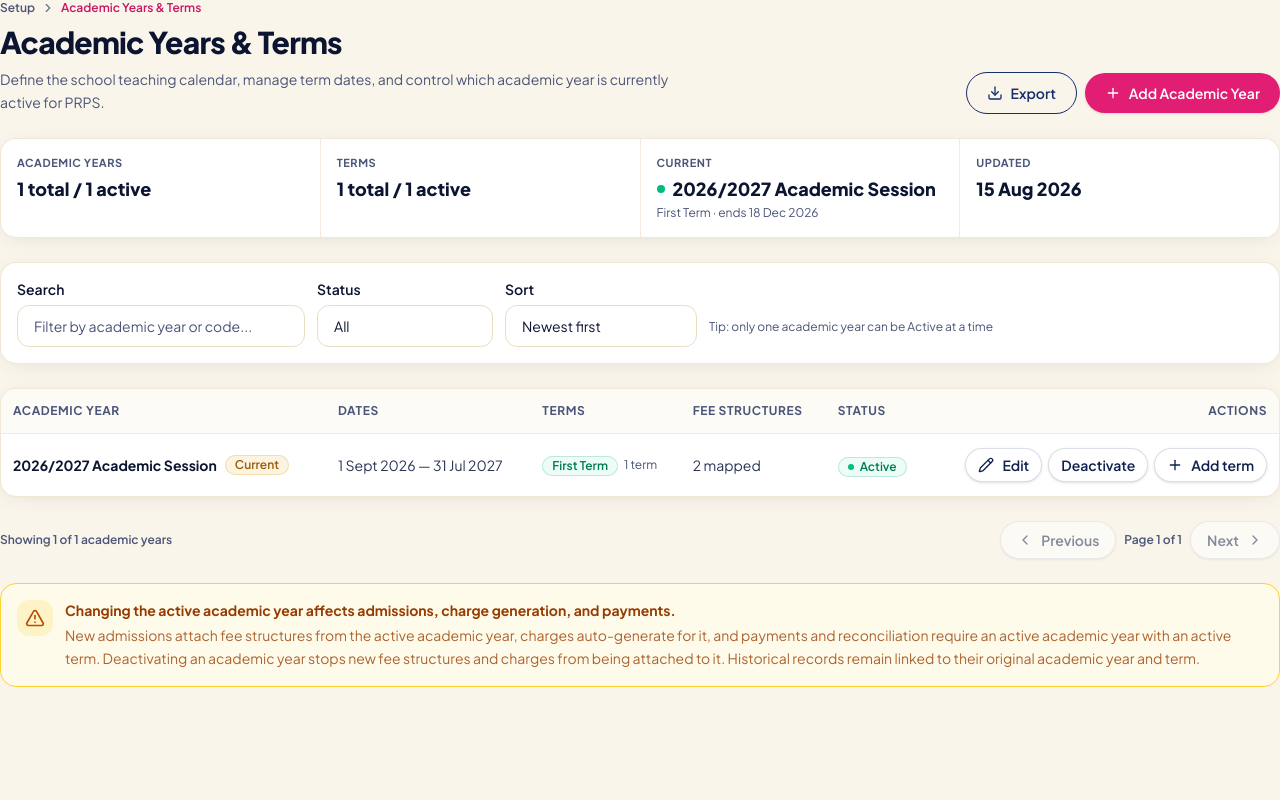
Test: SessionsPage › blocks a term that overlaps an existing term in the same academic year
Click the button "Add term": (1211, 465) [1154, 448, 1267, 482]
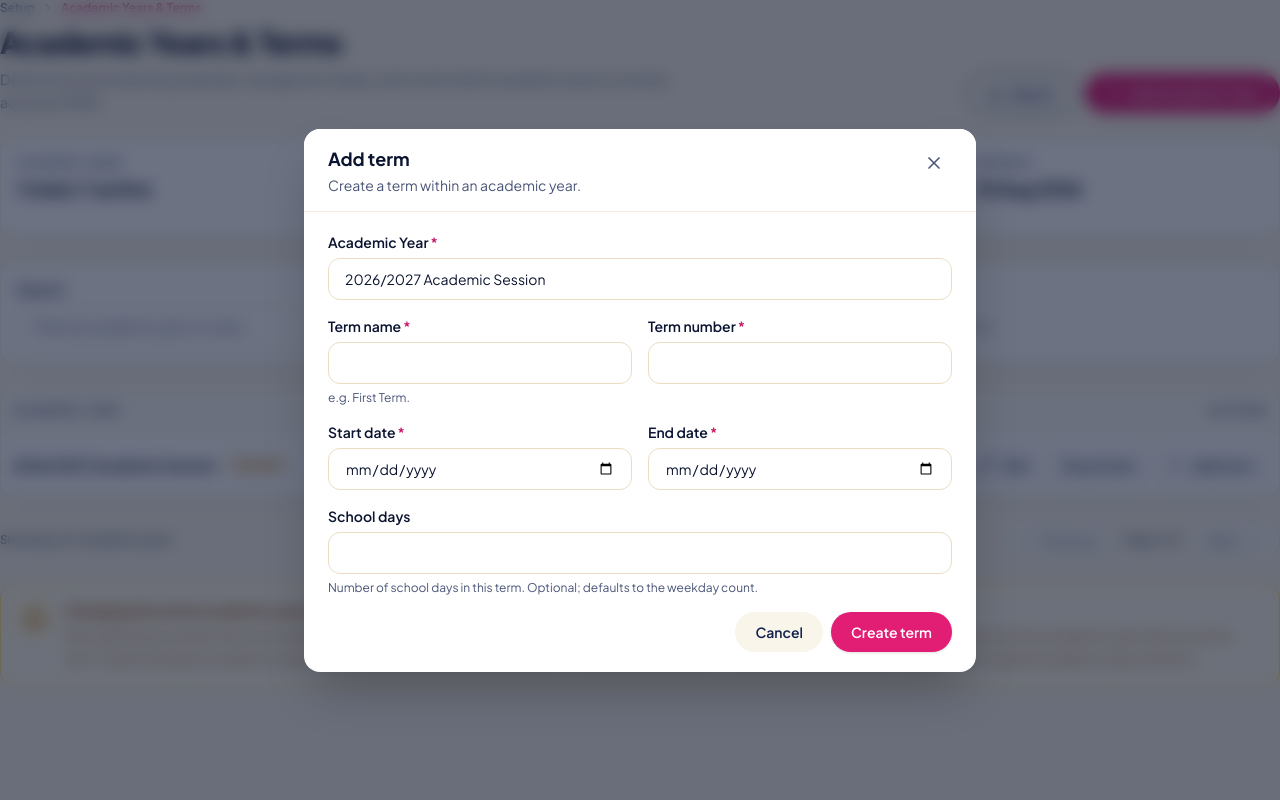
In the field labelled "Term name*": (480, 362) [328, 342, 632, 384], type "Second Term"
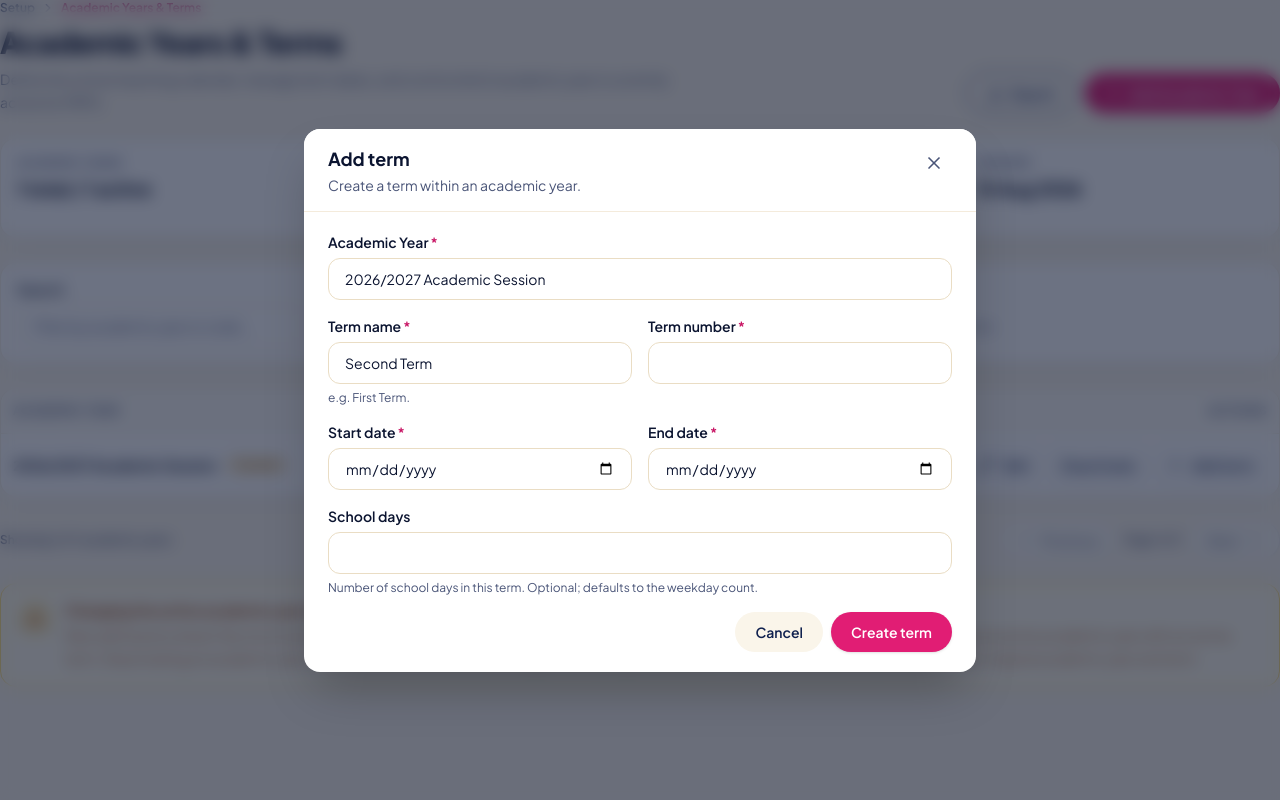
In the field labelled "Term number*": (800, 362) [648, 342, 952, 384], type "2"
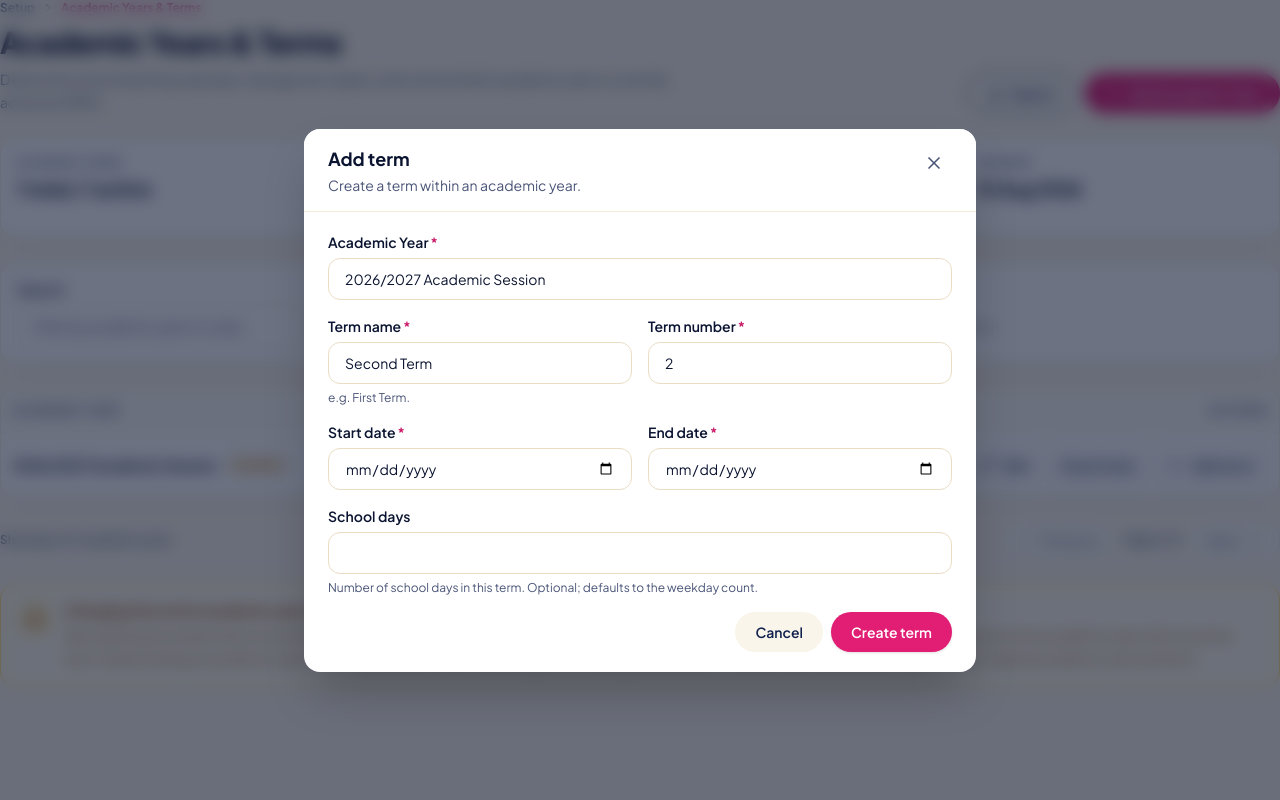
In the date field labelled "Start date*": (480, 468) [328, 448, 632, 490], type "2026-11-01"
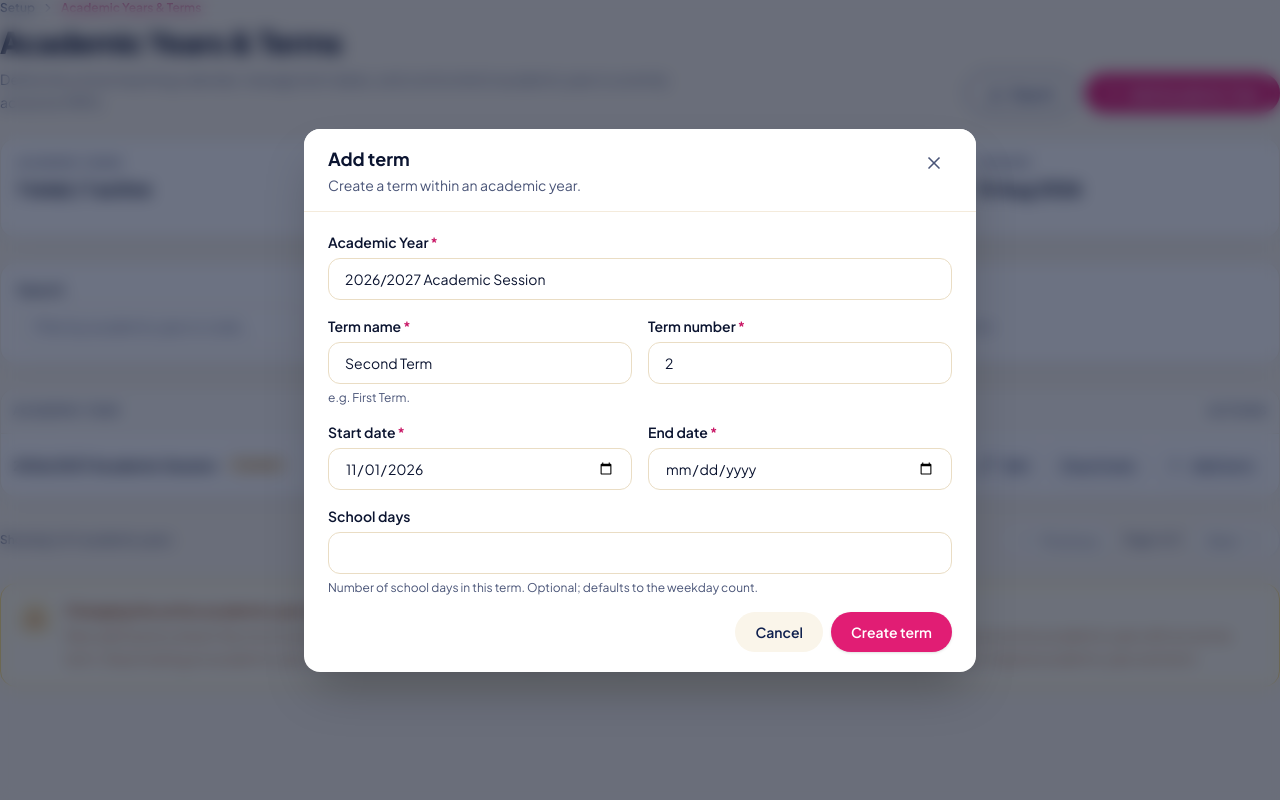
In the date field labelled "End date*": (800, 468) [648, 448, 952, 490], type "2026-12-31"
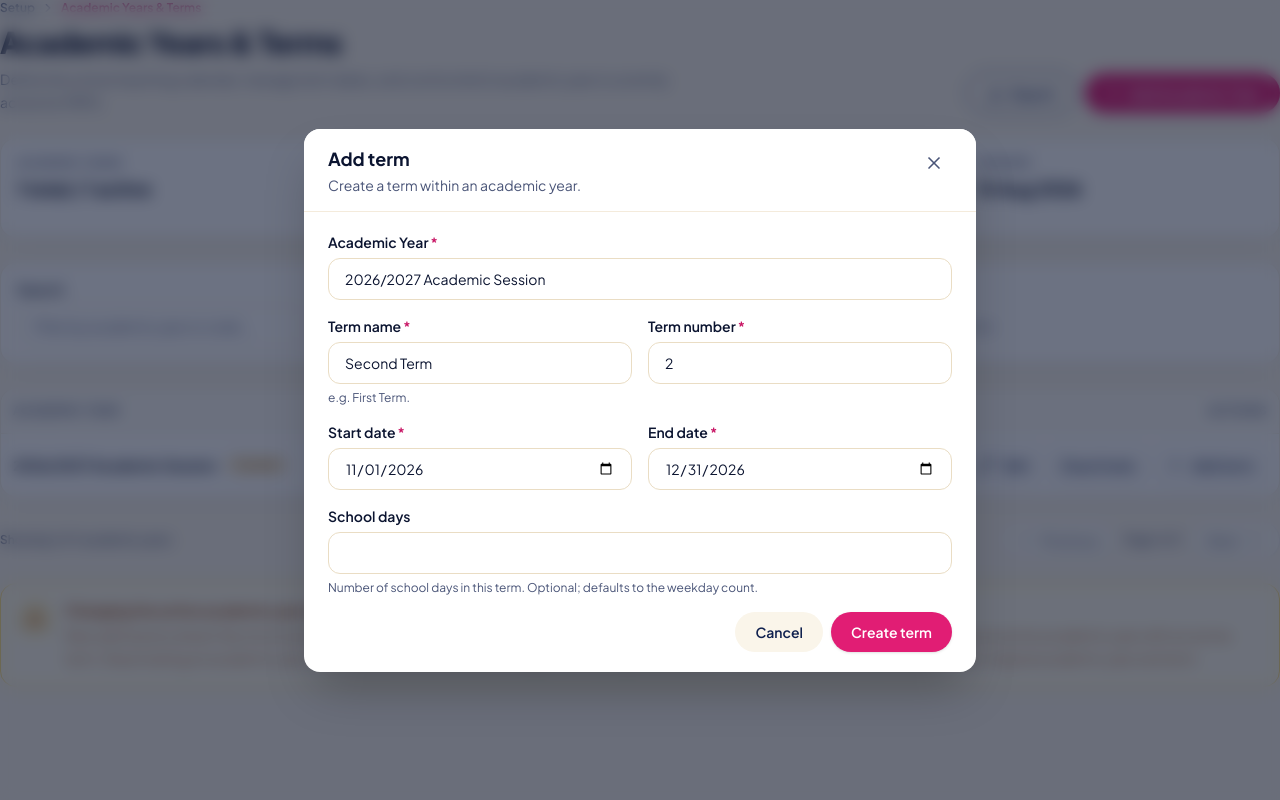
Click the button "Create term": (892, 632) [831, 612, 952, 652]
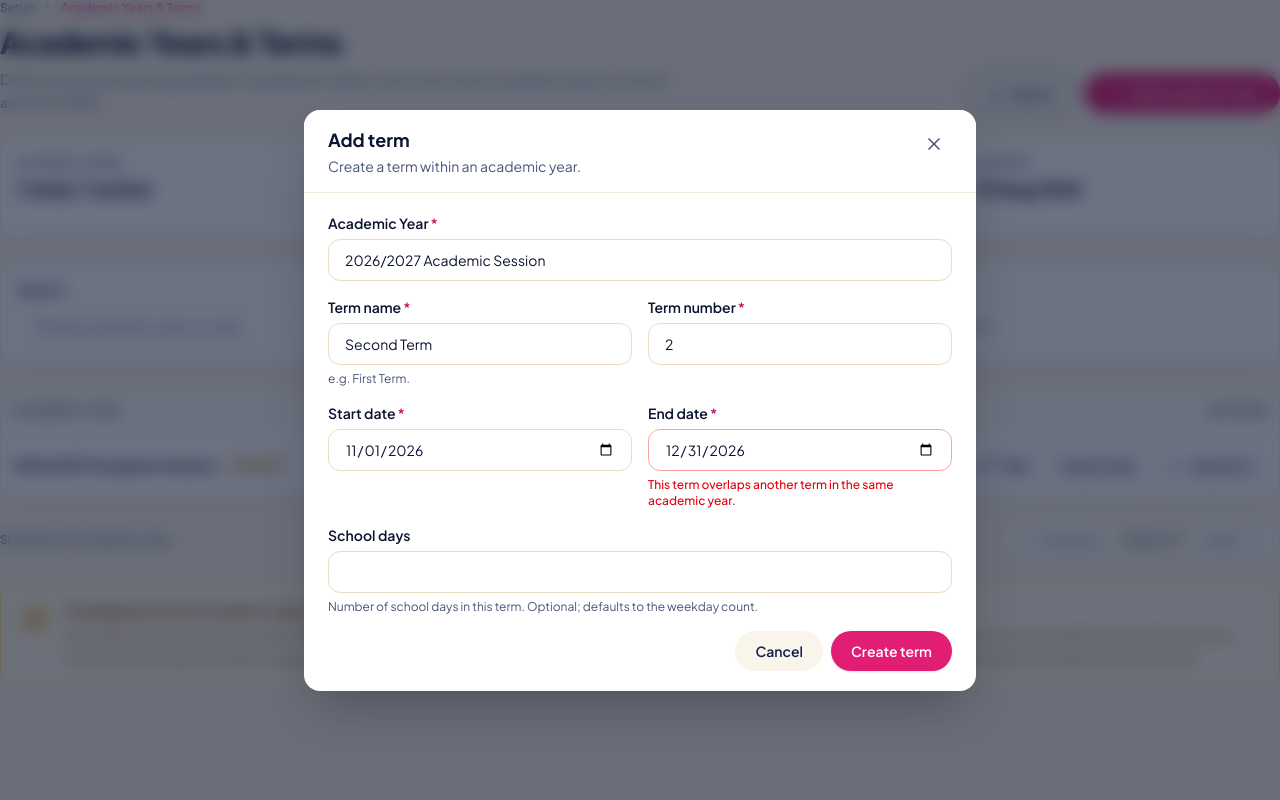
Now the text "This term overlaps another term in the same academic year." is shown, box [648, 476, 894, 508]
